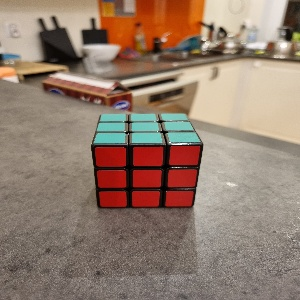cube: (91, 113, 205, 207)
